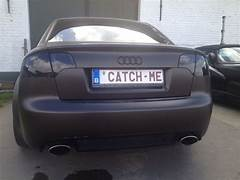number_plate: (92, 69, 166, 87)
